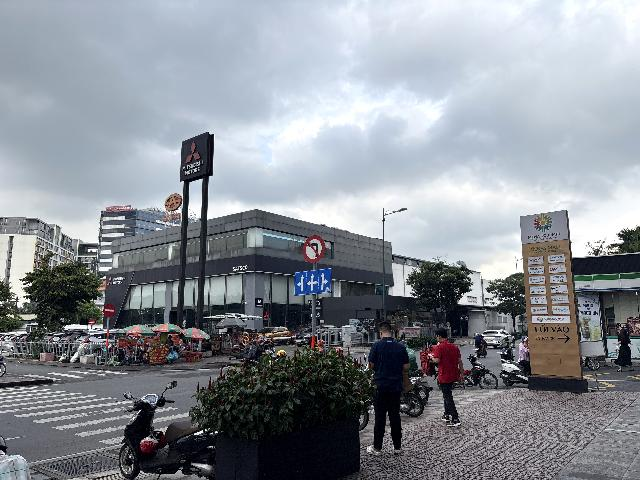cam-di-nguoc-chieu: (103, 303, 115, 317)
cam-re-trai: (302, 235, 326, 263)
